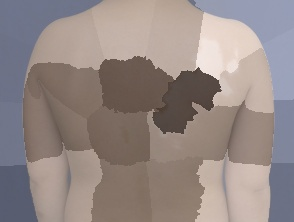vitiligo: (168, 15, 256, 138)
